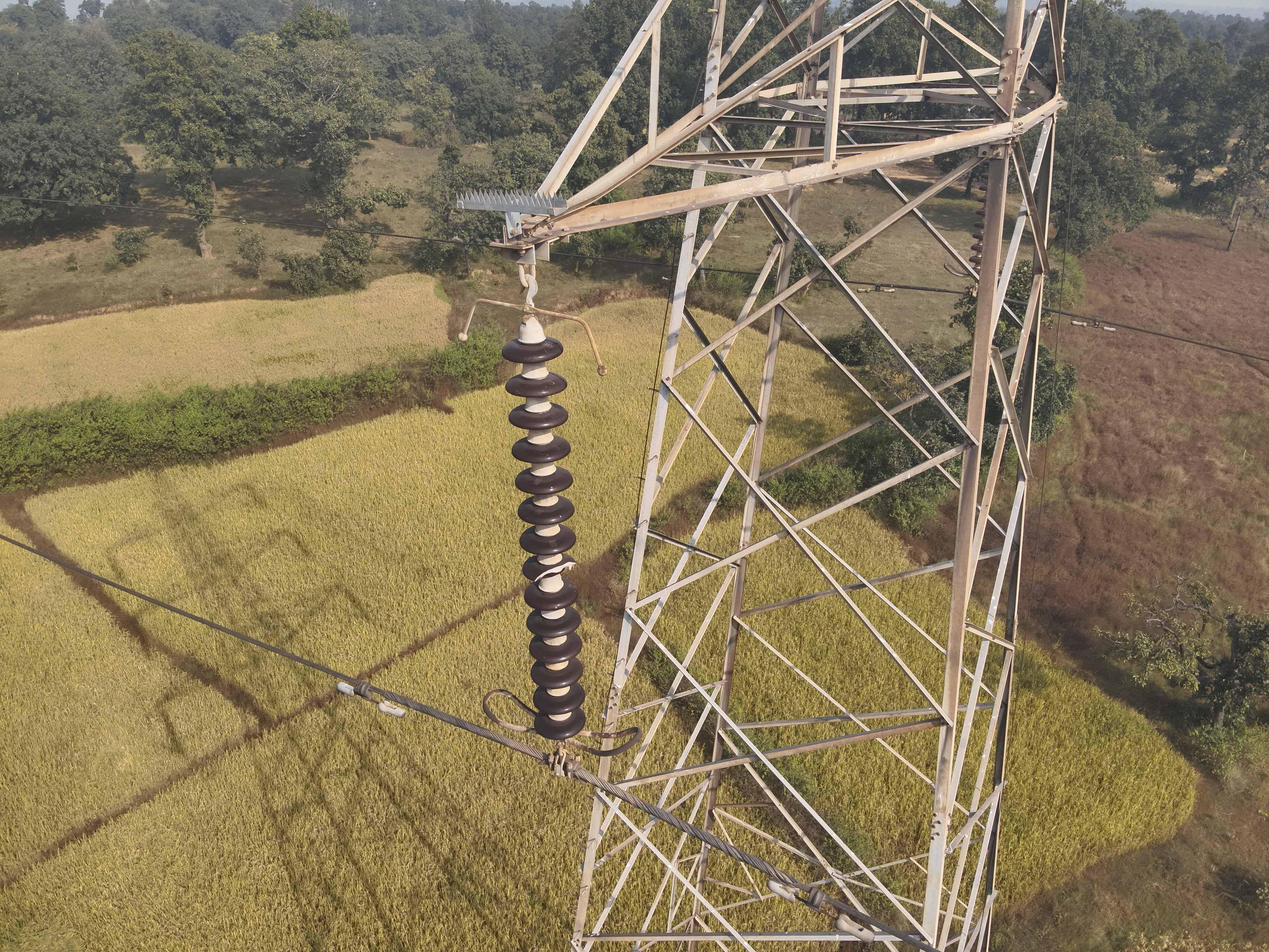broken_insulator: (522, 555, 578, 584)
